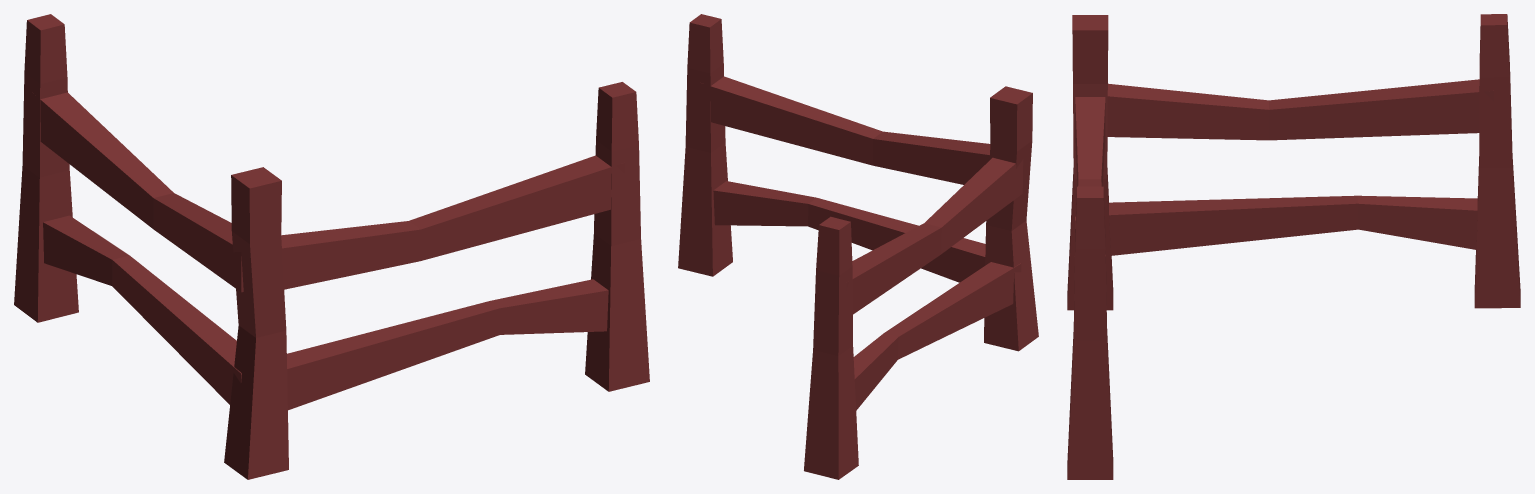
File: FenceCorner.glb
The picture shows the model from 3 angles, left to right: view 1: azimuth 30°, elevation 25°; view 2: azimuth 150°, elevation 25°; view 3: azimuth 270°, elevation 25°; orthographic projection. The views are drawn at different scales.
Visible parts, largest first — view 1: FenceCorner; view 2: FenceCorner; view 3: FenceCorner.
Part boxes in pixels (<box>): FenceCorner: <box>14,14,649,479</box>; FenceCorner: <box>678,14,1038,479</box>; FenceCorner: <box>1067,14,1520,479</box>.
Size of the model in its own units: 8.78 by 6.08 by 8.89.
